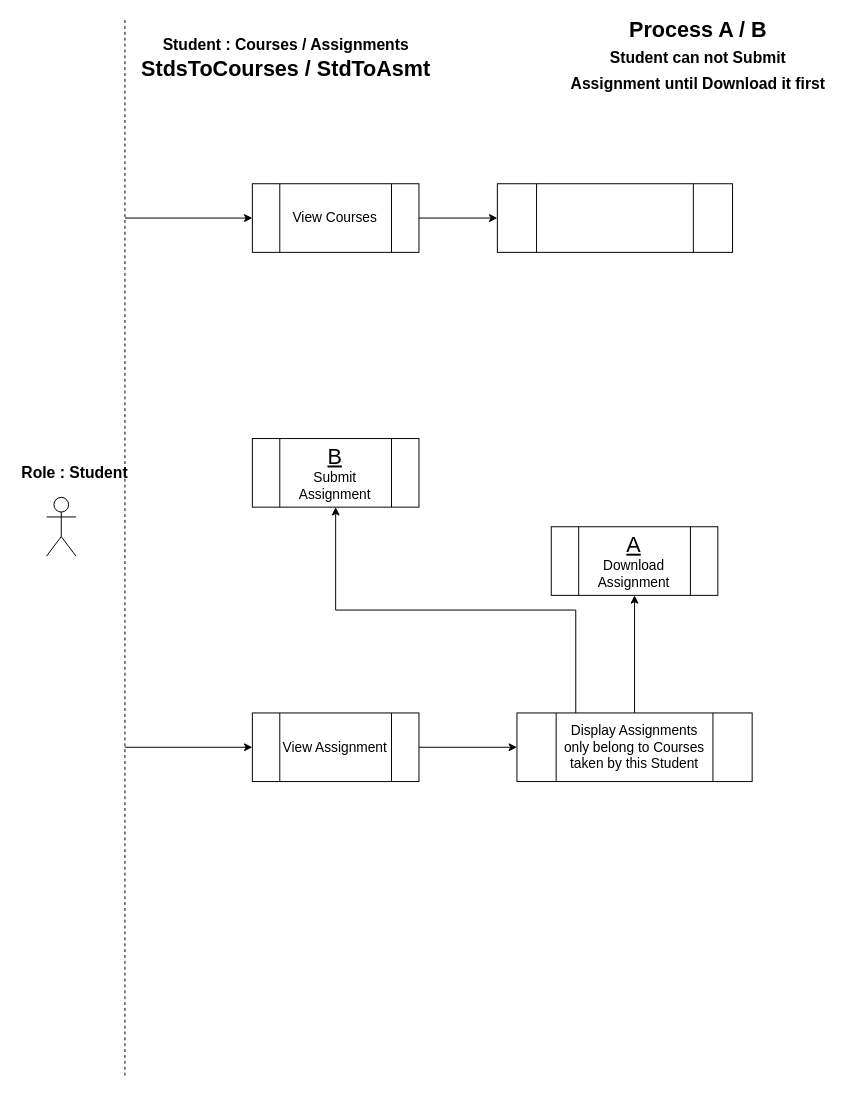
This 847x1094 diagram has some shape labels left out. The shapes that lost their labels are listed below. From the top down, each one's centre as x and y in pixels, then its label:
At [614,217]: "Display Courses With Faculty".
At [61,526]: "Actor".
